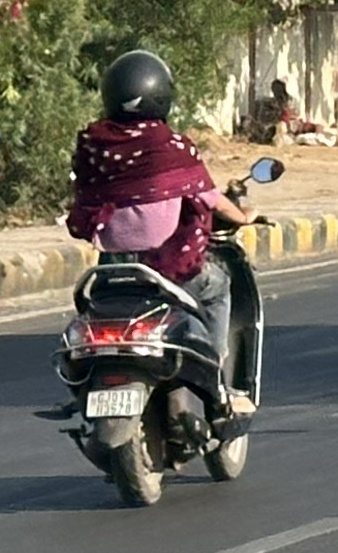BikeWithRider: (25, 42, 291, 514)
Helmet: (90, 43, 184, 128)
